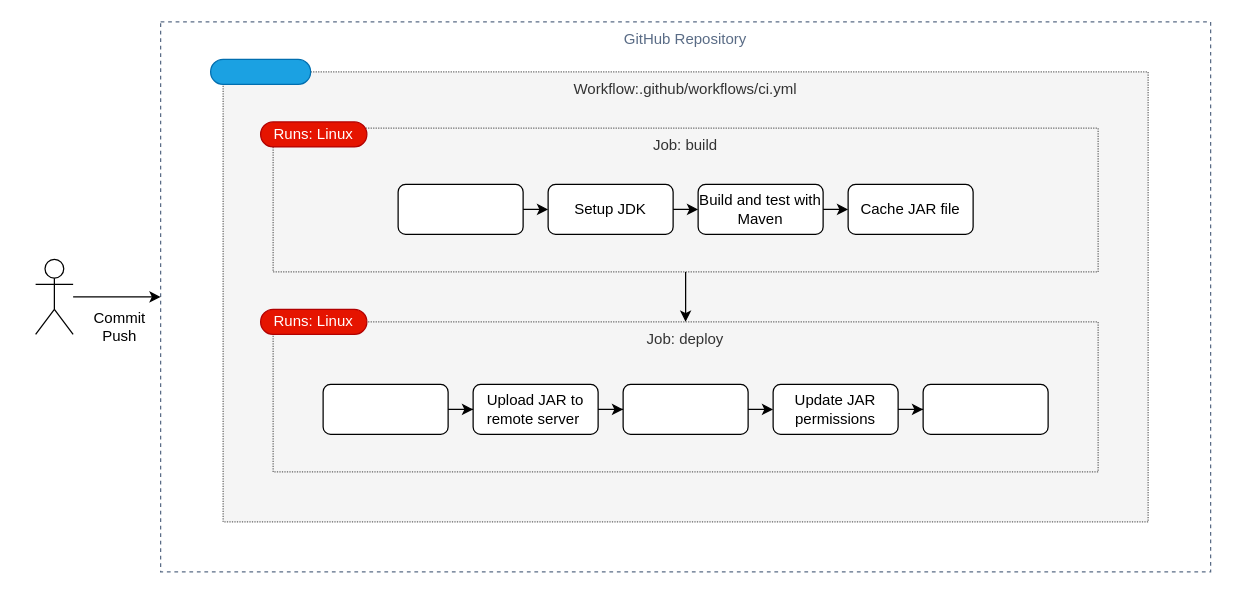
Image size: 1233x594. Some labels were removed from this diagram. The shapes that lost their labels are listed below. From the top down, each one's centre as x and y in pixels, then its label:
point 260,71: Event: Push
point 460,208: Checkout repository
point 53,296: Developer
point 385,408: Restore JAR file
point 685,408: Move JAR to plugin folder
point 985,408: Restart Neo4j service
